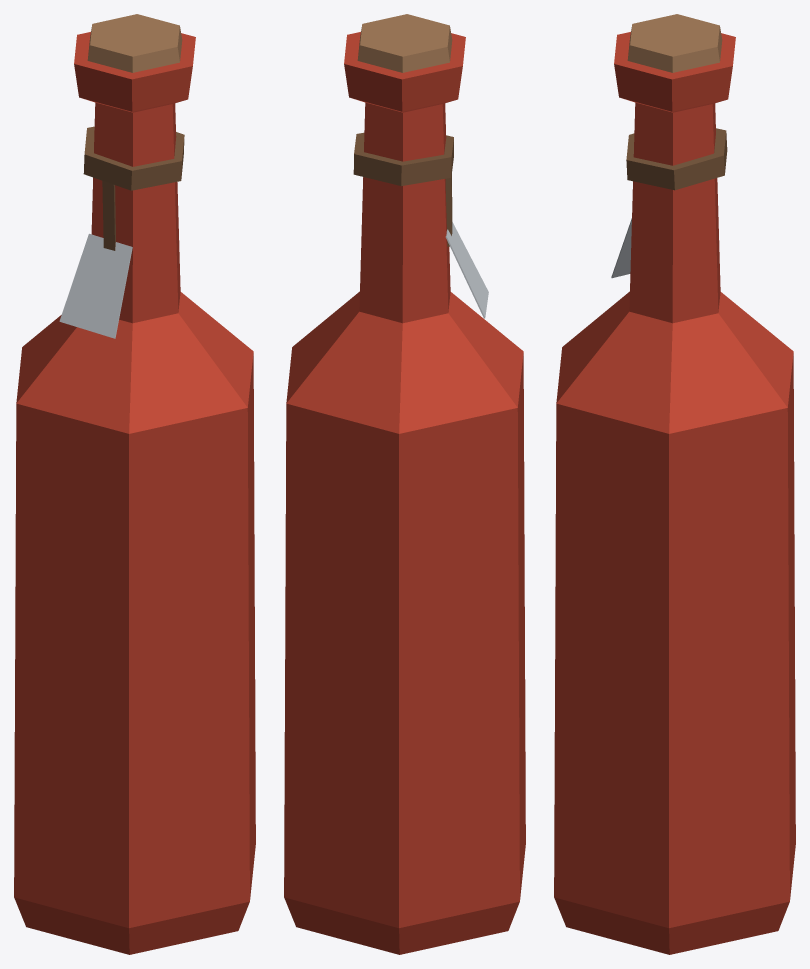
File: Red_Potion_14(Label).fbx
3 views of the same model, side by side, from view 1: azimuth 30°, elevation 25°; view 2: azimuth 150°, elevation 25°; view 3: azimuth 270°, elevation 25° (orthographic).
Parts seen in each view (by area): view 1: Red_Potion_14(Label); view 2: Red_Potion_14(Label); view 3: Red_Potion_14(Label).
Boxes of the visible parts, left/top/right/bottom form: Red_Potion_14(Label): left=14, top=14, right=255, bottom=954; Red_Potion_14(Label): left=284, top=14, right=525, bottom=954; Red_Potion_14(Label): left=554, top=14, right=795, bottom=954.
Bounding box in the file's own units: 13.19 × 46.35 × 11.71.
